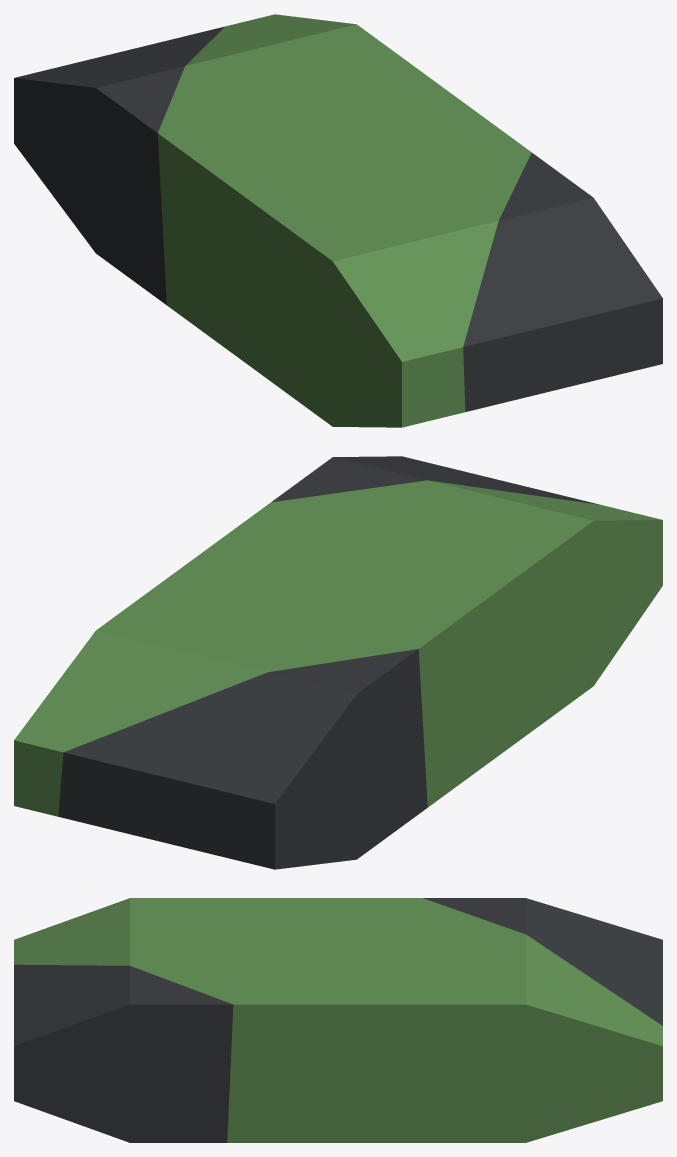
Rendered from SM_Prop_Snack_17.glb.
3 renders of one model, top to bottom at view 1: azimuth 30°, elevation 25°; view 2: azimuth 150°, elevation 25°; view 3: azimuth 270°, elevation 25°, orthographic. The views are drawn at different scales.
Parts seen in each view (by area): view 1: SM_Prop_Snack_17; view 2: SM_Prop_Snack_17; view 3: SM_Prop_Snack_17.
Part boxes in pixels (left/top/right/bottom): SM_Prop_Snack_17: left=14, top=14, right=662, bottom=427; SM_Prop_Snack_17: left=14, top=456, right=662, bottom=869; SM_Prop_Snack_17: left=14, top=898, right=662, bottom=1142.
Bounding box in the file's own units: 0.0754 × 0.0457 × 0.1943.
Materials: 1 (1 with a texture image).
